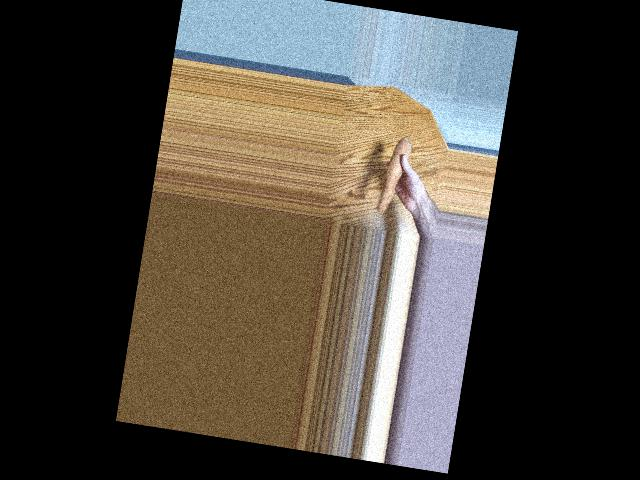sweet_potato: (379, 137, 406, 214)
